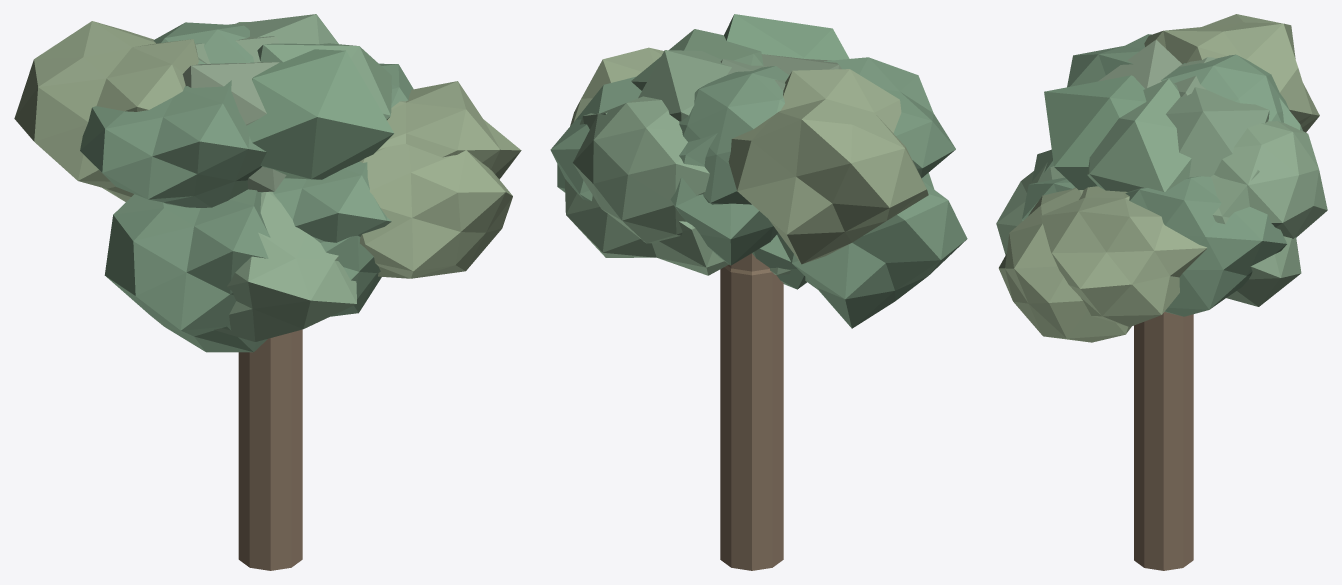
The model's file is oak.glb.
3 views of the same model, side by side, from view 1: azimuth 30°, elevation 25°; view 2: azimuth 150°, elevation 25°; view 3: azimuth 270°, elevation 25° (orthographic). The views are drawn at different scales.
Parts seen in each view (by area): view 1: world; view 2: world; view 3: world.
Boxes of the visible parts, bbox=[...] form: world: bbox=[14, 14, 521, 570]; world: bbox=[550, 14, 967, 570]; world: bbox=[996, 14, 1327, 570].
Bounding box in the file's own units: 4.26 × 5.12 × 3.18.
